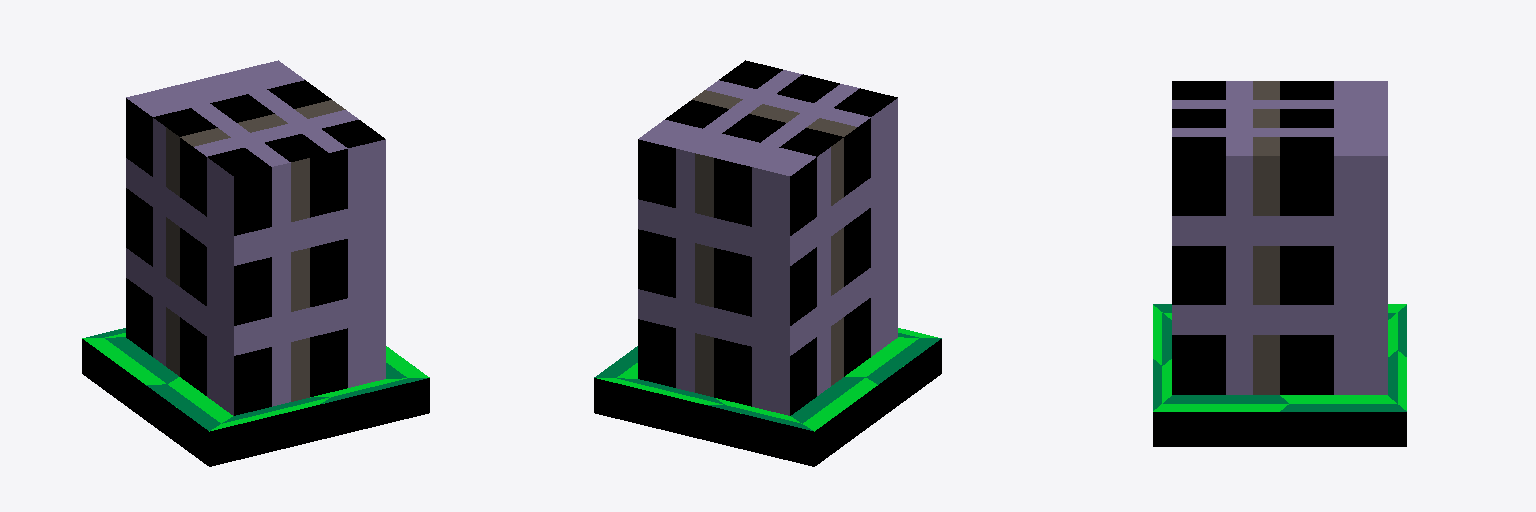
3 views of the same model, side by side, from view 1: azimuth 30°, elevation 25°; view 2: azimuth 150°, elevation 25°; view 3: azimuth 270°, elevation 25° (orthographic).
Parts seen in each view (by area): view 1: tile_build_md; view 2: tile_build_md; view 3: tile_build_md.
Boxes of the visible parts, <box> form: tile_build_md: <box>82,60,429,466</box>; tile_build_md: <box>594,60,941,466</box>; tile_build_md: <box>1153,81,1406,446</box>.
Size of the model in its own units: 6.5 by 7.75 by 6.5.
Materials: 1 (1 with a texture image).